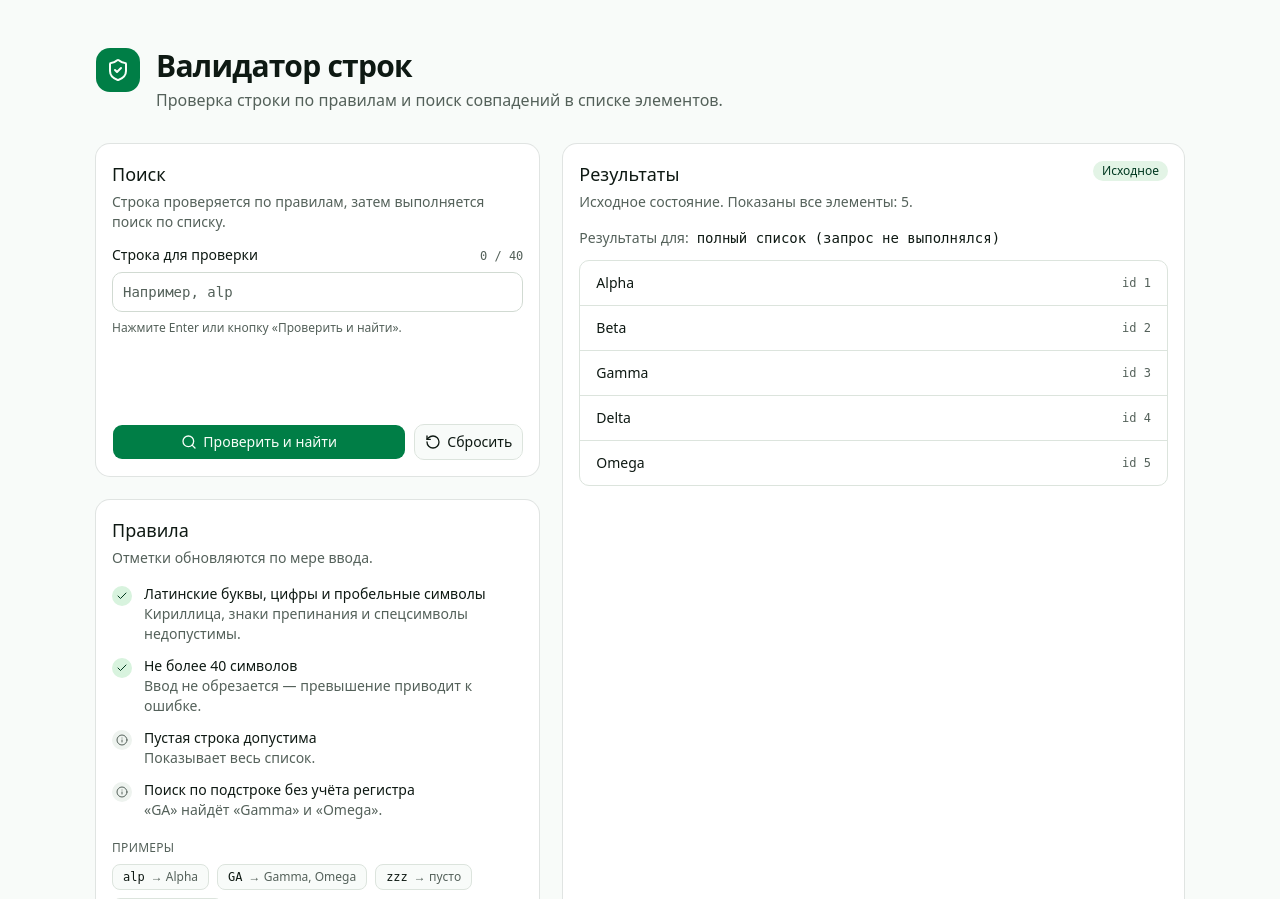
Scenario: Компоненты и взаимодействия › submits with Enter and displays the returned list, then resets and restores focus
Type "alp" into the field labelled "Строка для проверки".
click(318, 292); type("alp")  # box [112,272,523,312]
Then press Enter
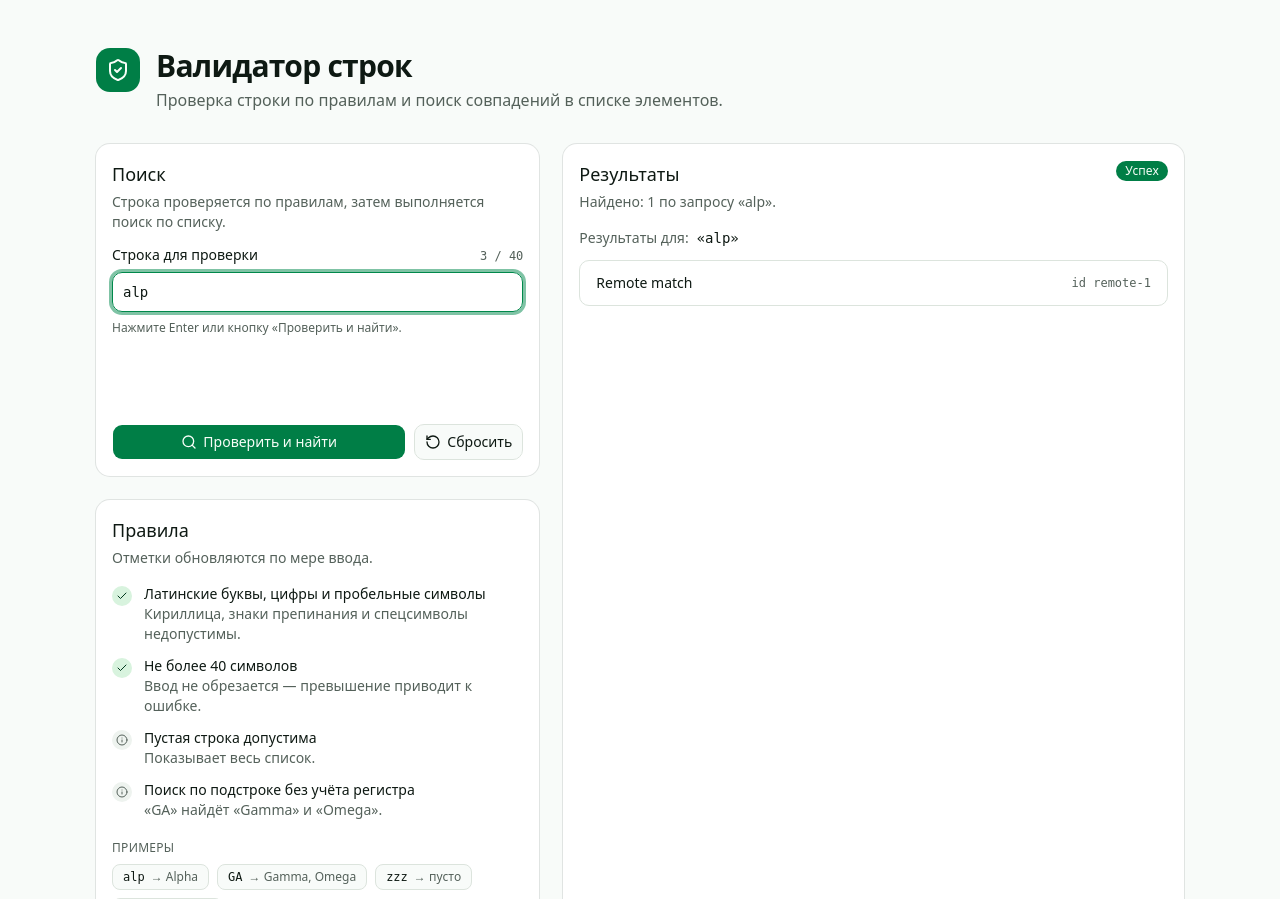
Expected: the text "alp" is shown, [123,869,145,885]
Expected: the text "Remote match" is shown, [596,273,692,293]
Click the button "Сбросить".
click(469, 442)  # box [414,424,523,460]
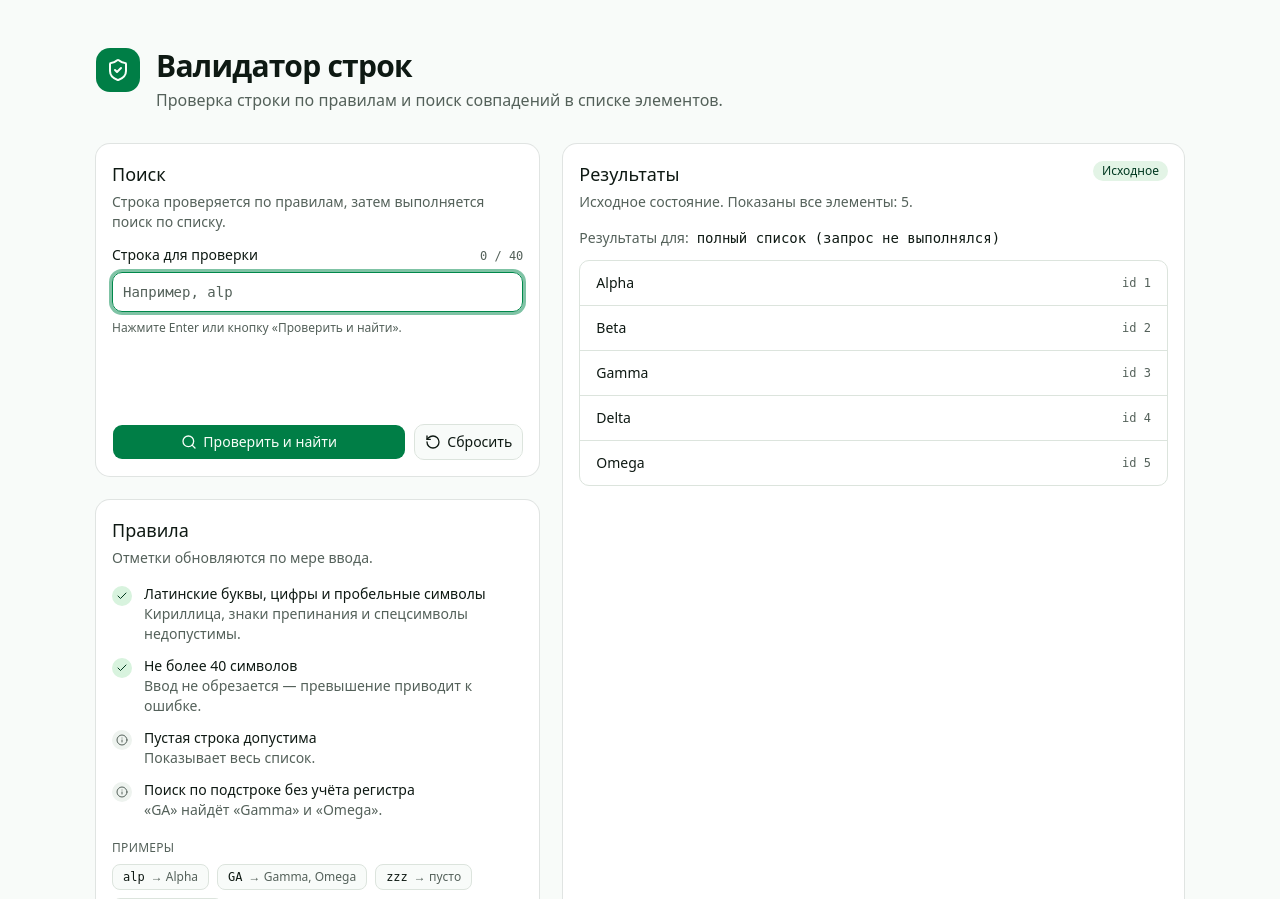
Expected: the field labelled "Строка для проверки" is empty, [112,272,523,312]
